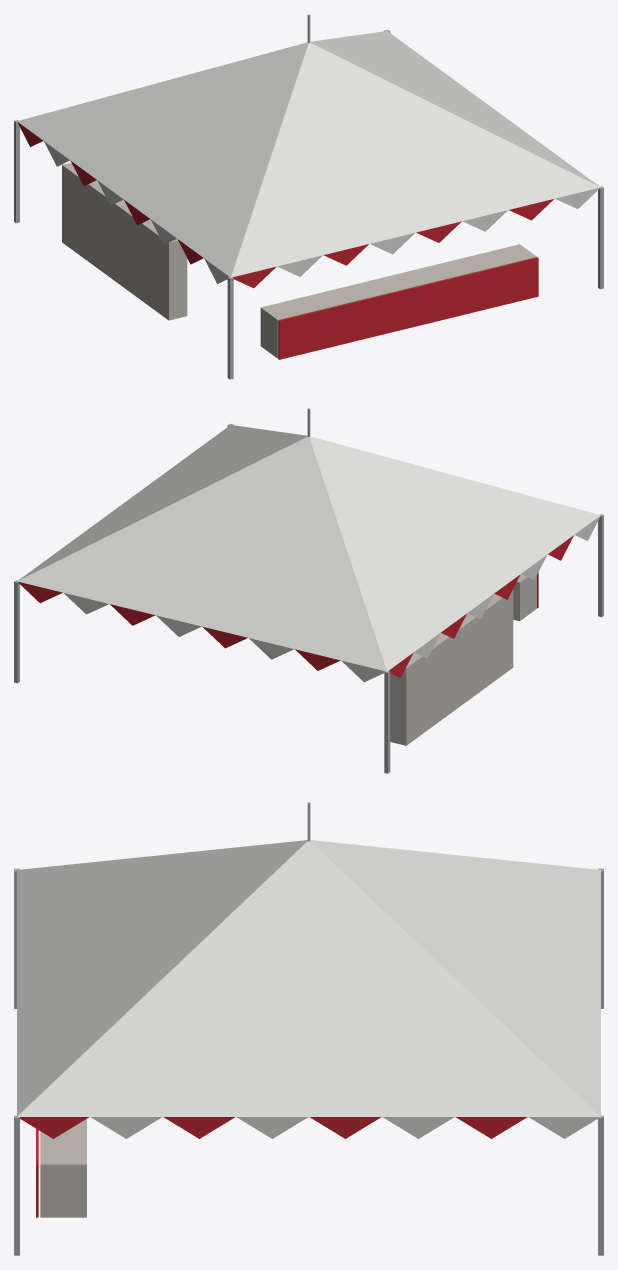
Rendered from tenda_1.glb.
The picture shows the model from 3 angles, top to bottom: view 1: azimuth 30°, elevation 25°; view 2: azimuth 150°, elevation 25°; view 3: azimuth 270°, elevation 25°; orthographic projection. The views are drawn at different scales.
Parts seen in each view (by area): view 1: br, bal, cor, aco; view 2: br, bal, cor, aco; view 3: br, bal, cor, aco.
Part boxes in pixels (left/top/right/bottom): br: left=17, top=31, right=600, bottom=283; bal: left=62, top=162, right=536, bottom=358; cor: left=18, top=122, right=553, bottom=359; aco: left=14, top=14, right=603, bottom=379; br: left=17, top=425, right=600, bottom=682; bal: left=390, top=574, right=536, bottom=745; cor: left=18, top=535, right=573, bottom=677; aco: left=14, top=408, right=603, bottom=773; br: left=17, top=840, right=600, bottom=1138; bal: left=40, top=1119, right=86, bottom=1217; cor: left=20, top=1117, right=527, bottom=1217; aco: left=14, top=802, right=603, bottom=1255.
Bounding box in the file's own units: 10.1 × 6.2 × 10.1.
